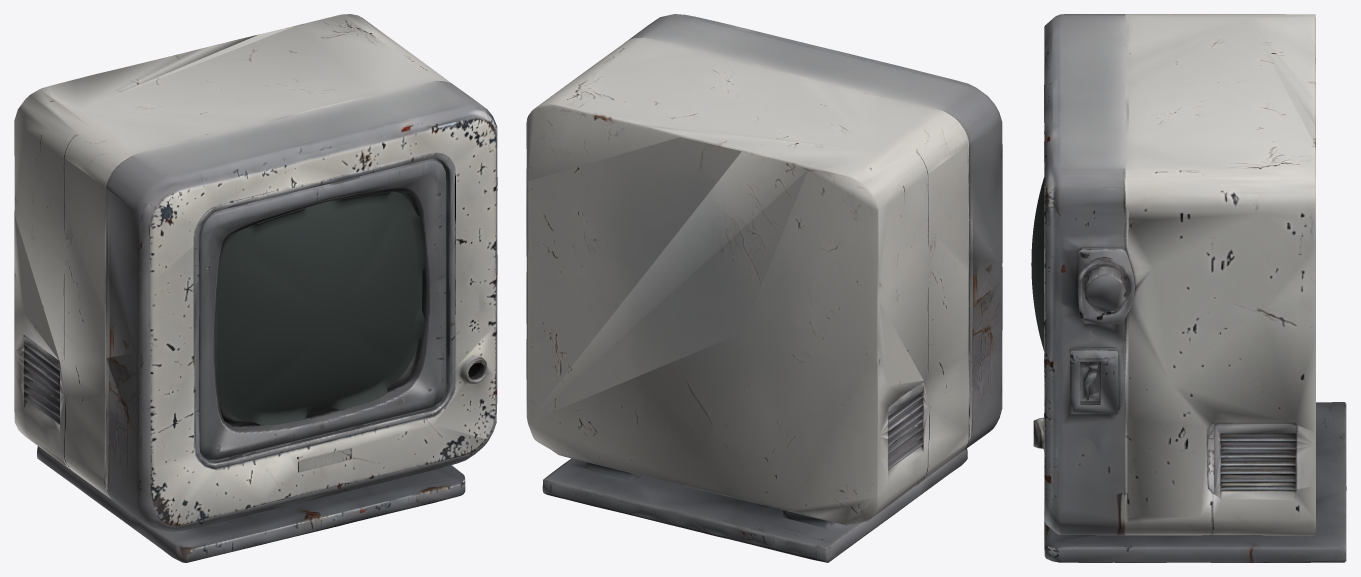
The model's file is tv_crt_c.glb.
3 renders of one model, left to right at view 1: azimuth 30°, elevation 25°; view 2: azimuth 150°, elevation 25°; view 3: azimuth 270°, elevation 25°, orthographic. The views are drawn at different scales.
Visible parts, largest first — view 1: tv_crt_c, tv_screen; view 2: tv_crt_c; view 3: tv_crt_c, tv_screen.
Part boxes in pixels (left/top/right/bottom): tv_crt_c: left=14, top=14, right=497, bottom=562; tv_screen: left=217, top=191, right=425, bottom=425; tv_crt_c: left=526, top=14, right=1002, bottom=562; tv_crt_c: left=1033, top=14, right=1346, bottom=562; tv_screen: left=1031, top=177, right=1044, bottom=351.
Bounding box in the file's own units: 0.4999 × 0.4927 × 0.3535.
Materials: 2 (1 with a texture image).
